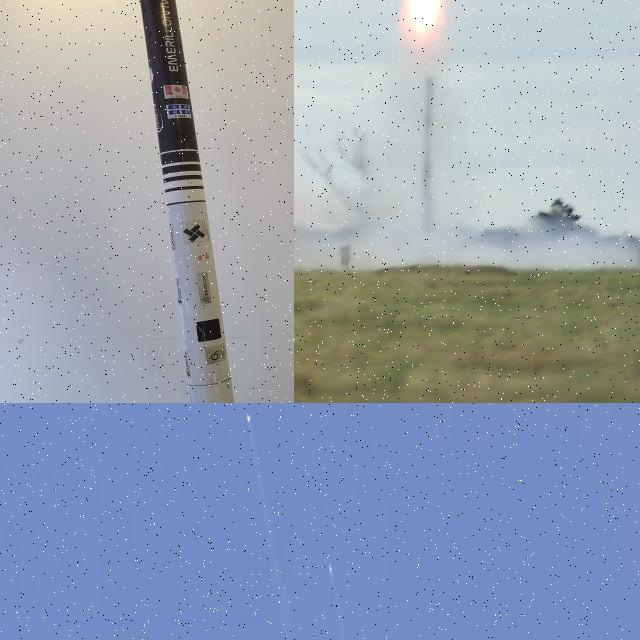Rocket: (139, 0, 234, 403), (328, 562, 334, 577), (247, 412, 250, 422)
